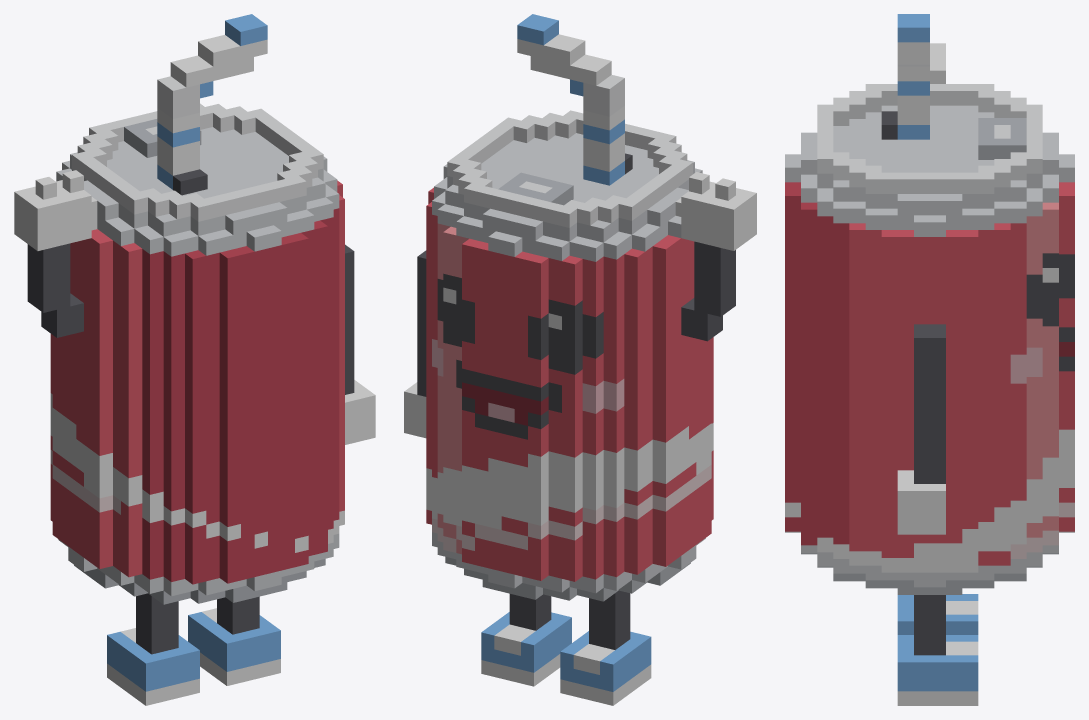
Rendered from BloxyColino.glb.
The picture shows the model from 3 angles, left to right: view 1: azimuth 30°, elevation 25°; view 2: azimuth 150°, elevation 25°; view 3: azimuth 270°, elevation 25°; orthographic projection. The views are drawn at different scales.
Visible parts, largest first — view 1: geometry_0; view 2: geometry_0; view 3: geometry_0.
Part boxes in pixels (bbox=[...]): geometry_0: bbox=[14, 14, 375, 705]; geometry_0: bbox=[404, 14, 756, 705]; geometry_0: bbox=[785, 14, 1074, 705].
Bounding box in the file's own units: 0.5435 × 1 × 0.3913.
